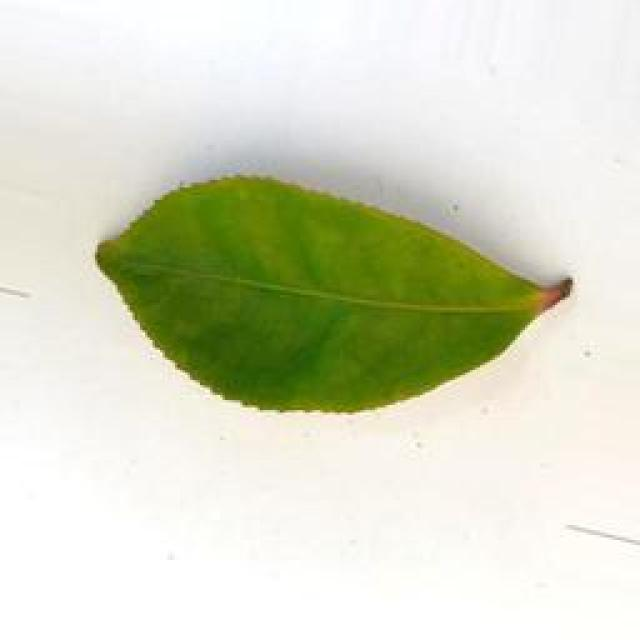Healthy: (69, 167, 591, 428)
